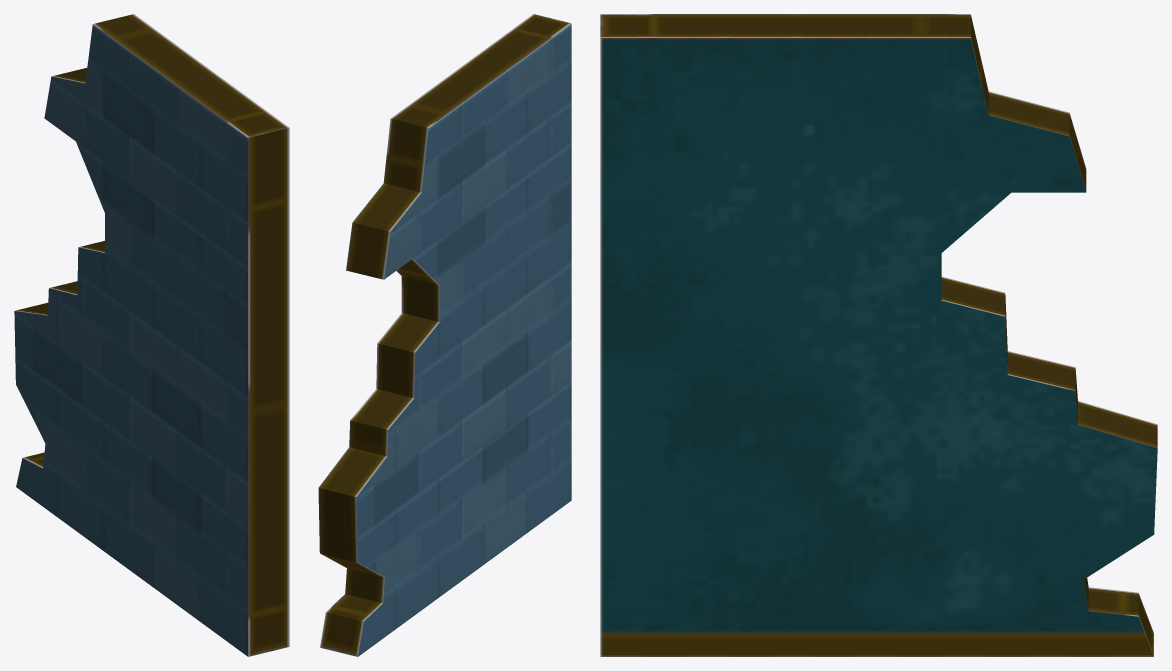
The model's file is Wall_Broken_R_05.fbx.
3 views of the same model, side by side, from view 1: azimuth 30°, elevation 25°; view 2: azimuth 150°, elevation 25°; view 3: azimuth 270°, elevation 25° (orthographic). The views are drawn at different scales.
Parts seen in each view (by area): view 1: Wall_Broken_R_05; view 2: Wall_Broken_R_05; view 3: Wall_Broken_R_05.
Boxes of the visible parts, box(x1,y1,x2,y2) form: Wall_Broken_R_05: box(14, 14, 289, 656); Wall_Broken_R_05: box(318, 14, 571, 656); Wall_Broken_R_05: box(600, 14, 1157, 656).
Size of the model in its own units: 50 by 600 by 490.
